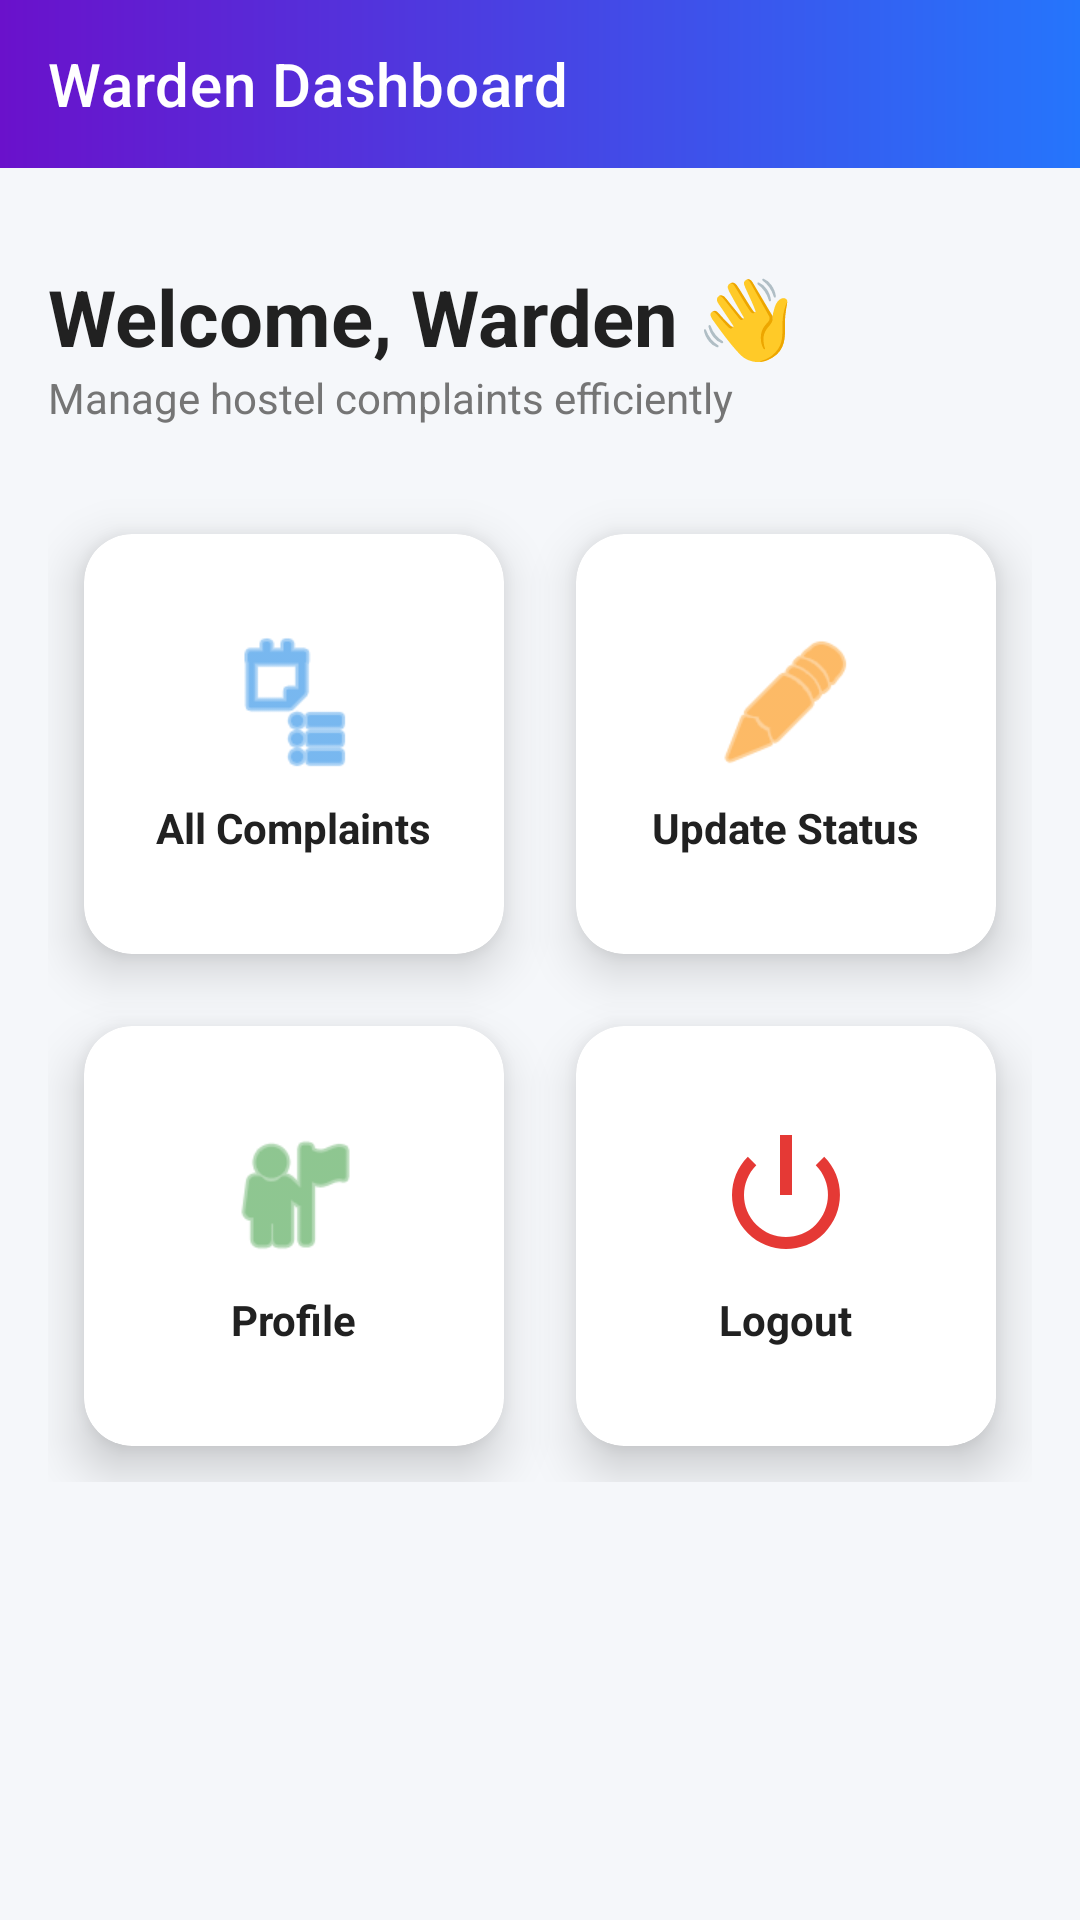

Where icons sit on this 1080×1920 app screen, as region(x1, y1, x2, y2):
agenda: region(244, 638, 345, 766)
edit: region(724, 641, 846, 763)
lock power off: region(732, 1135, 840, 1249)
myplaces: region(241, 1141, 350, 1249)
